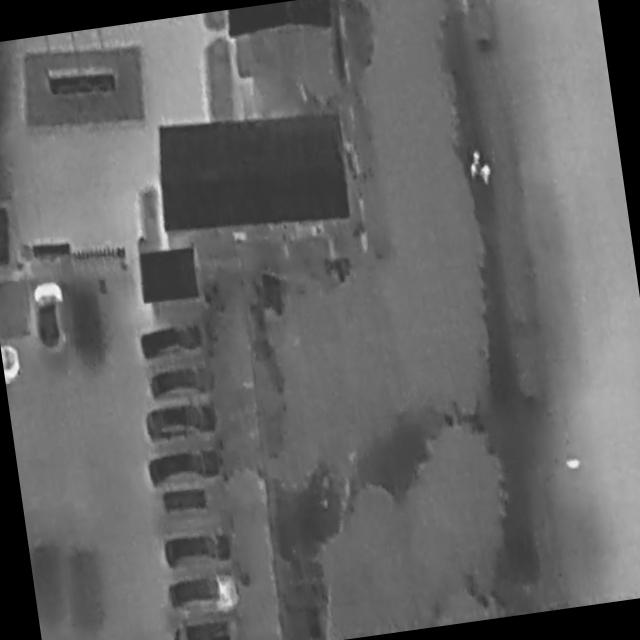person: (482, 164, 494, 186), (472, 149, 481, 167), (471, 163, 480, 179)
